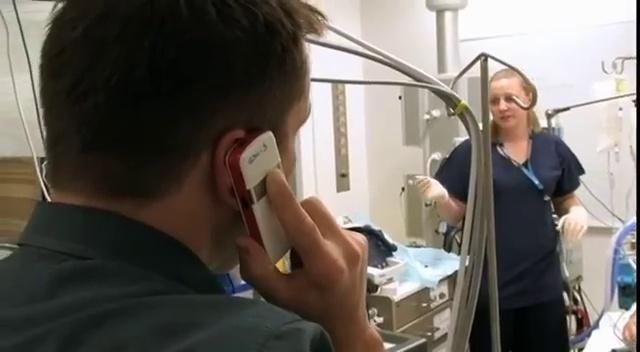others: (0, 0, 387, 351), (412, 66, 589, 351)
